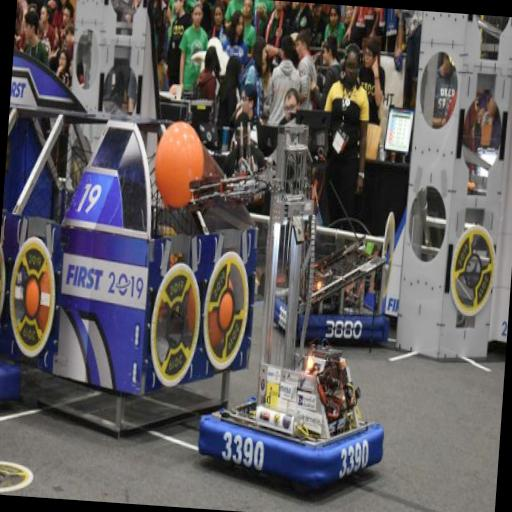robot: (195, 104, 406, 500)
